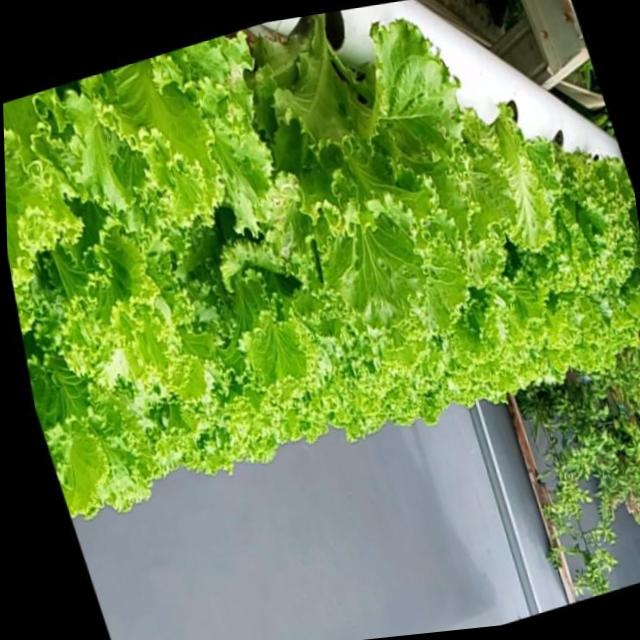Mature: (3, 15, 640, 522), (232, 20, 447, 321), (477, 125, 640, 331)
